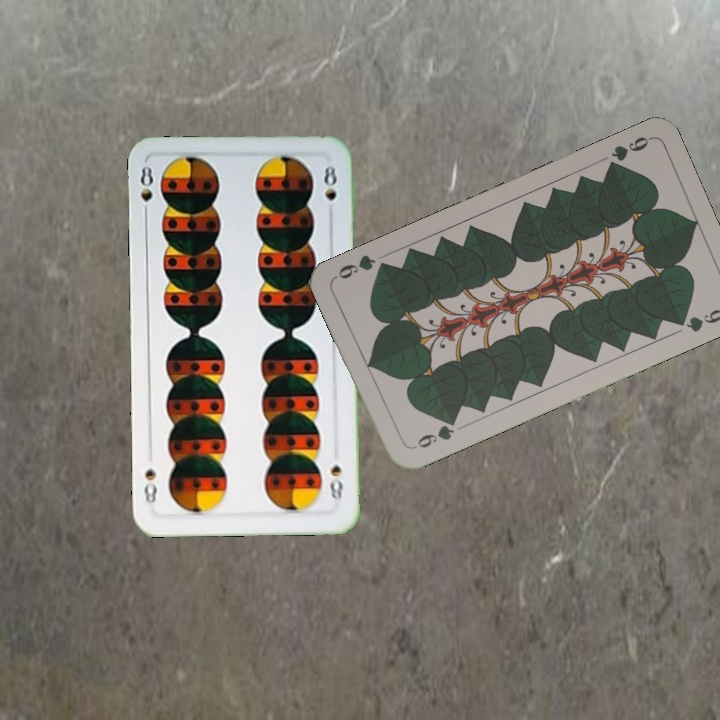G9: (602, 132, 653, 174), (407, 414, 459, 452)
S8: (136, 162, 156, 221), (325, 461, 345, 503)
